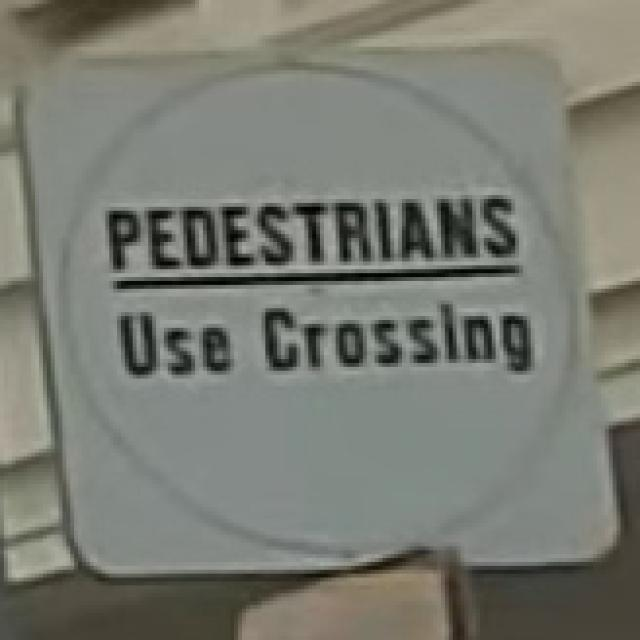pedestriancrossing_sign: (98, 187, 554, 408)
